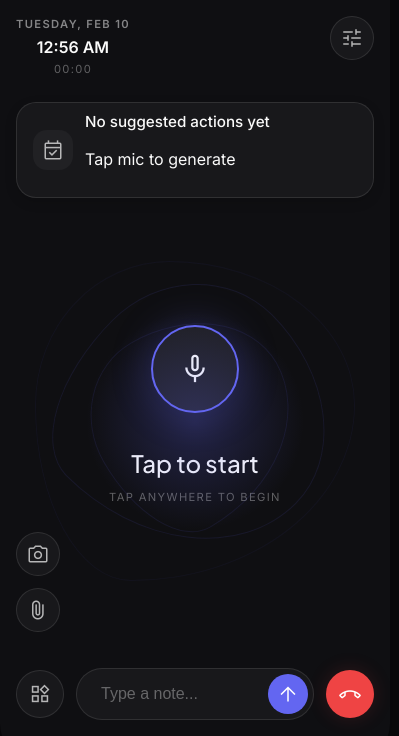
Scenario: Chat action bar interactions › Dismiss does not create an open loop and removes the action from the bar
Click the button named "Microphone" at x=195, y=369, box [151,325,239,413]
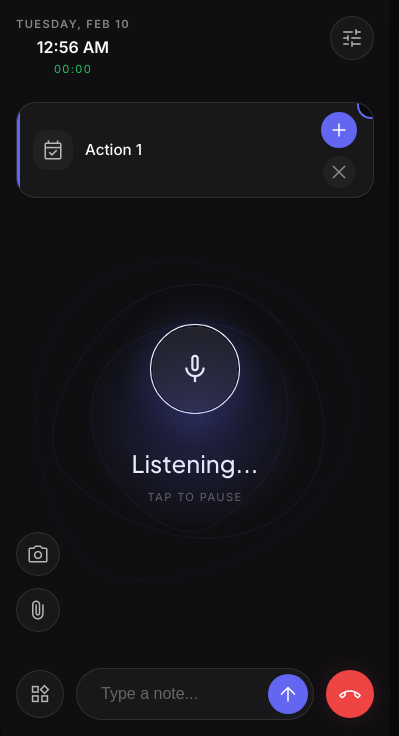
expect the text "Action 1" is shown: met, box [85,140,142,160]
Click the button named "Dismiss Action 1" at x=339, y=172, box [323,156,355,188]
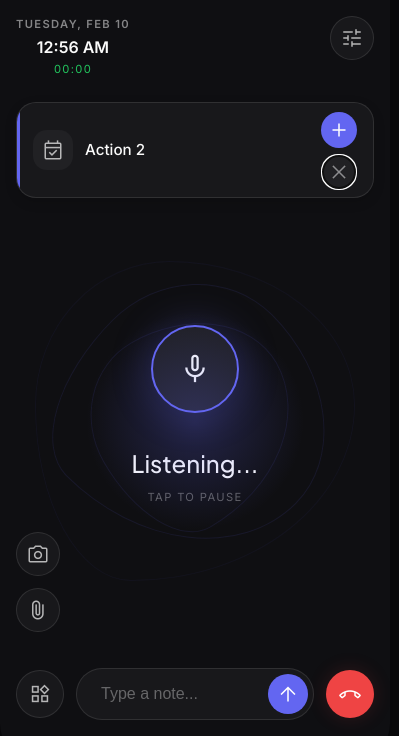
expect the text "Action 1" is gone: met
